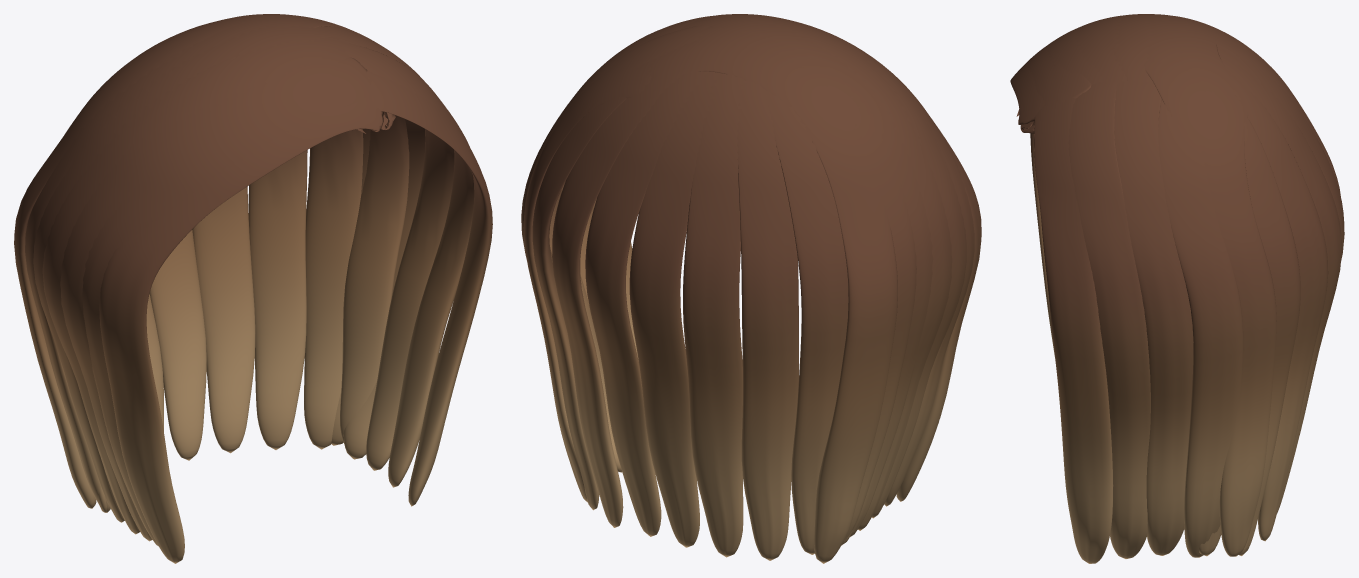
Rendered from Feminine-straight-bucket260-hair-ombre.glb.
3 renders of one model, left to right at view 1: azimuth 30°, elevation 25°; view 2: azimuth 150°, elevation 25°; view 3: azimuth 270°, elevation 25°, orthographic. The views are drawn at different scales.
Visible parts, largest first — view 1: 226 hair / Hair / sculpted 0.001, 226 hair / Hair / sculpted 1.002, 226 hair / Hair / sculpted 2.001; view 2: 226 hair / Hair / sculpted 0.001, 226 hair / Hair / sculpted 2.001, 226 hair / Hair / sculpted 1.002; view 3: 226 hair / Hair / sculpted 1.002, 226 hair / Hair / sculpted 2.001, 226 hair / Hair / sculpted 0.001.
Boxes of the visible parts, <box> form: 226 hair / Hair / sculpted 0.001: <box>14,14,454,563</box>; 226 hair / Hair / sculpted 1.002: <box>33,15,492,545</box>; 226 hair / Hair / sculpted 2.001: <box>25,15,474,541</box>; 226 hair / Hair / sculpted 0.001: <box>549,14,981,563</box>; 226 hair / Hair / sculpted 2.001: <box>523,14,966,554</box>; 226 hair / Hair / sculpted 1.002: <box>521,14,974,560</box>; 226 hair / Hair / sculpted 1.002: <box>1027,14,1341,563</box>; 226 hair / Hair / sculpted 2.001: <box>1047,14,1344,558</box>; 226 hair / Hair / sculpted 0.001: <box>1010,15,1340,555</box>.
Size of the model in its own units: 1.01 by 1.15 by 0.7402.
